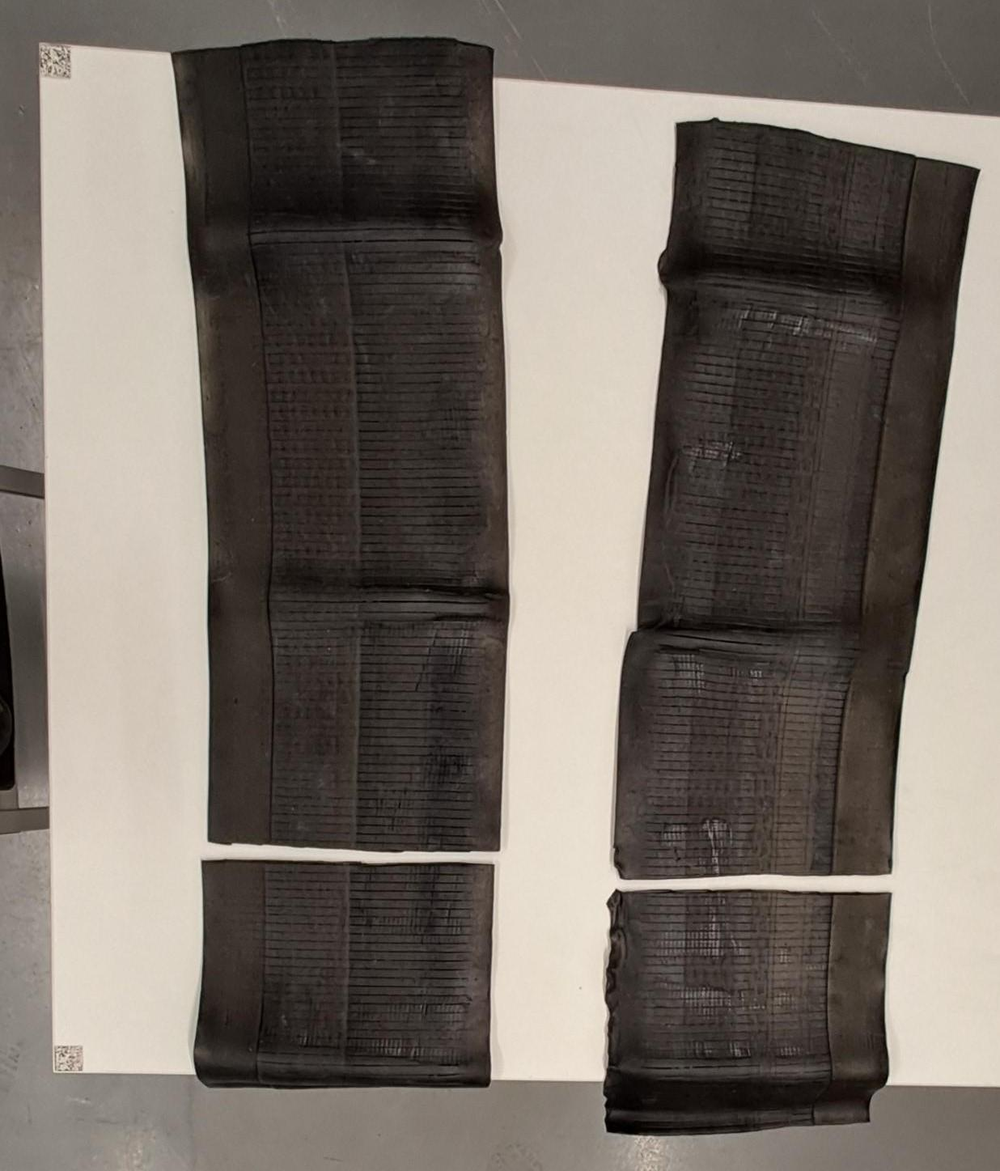cut_edge: (201, 842, 499, 863), (617, 874, 890, 892)
